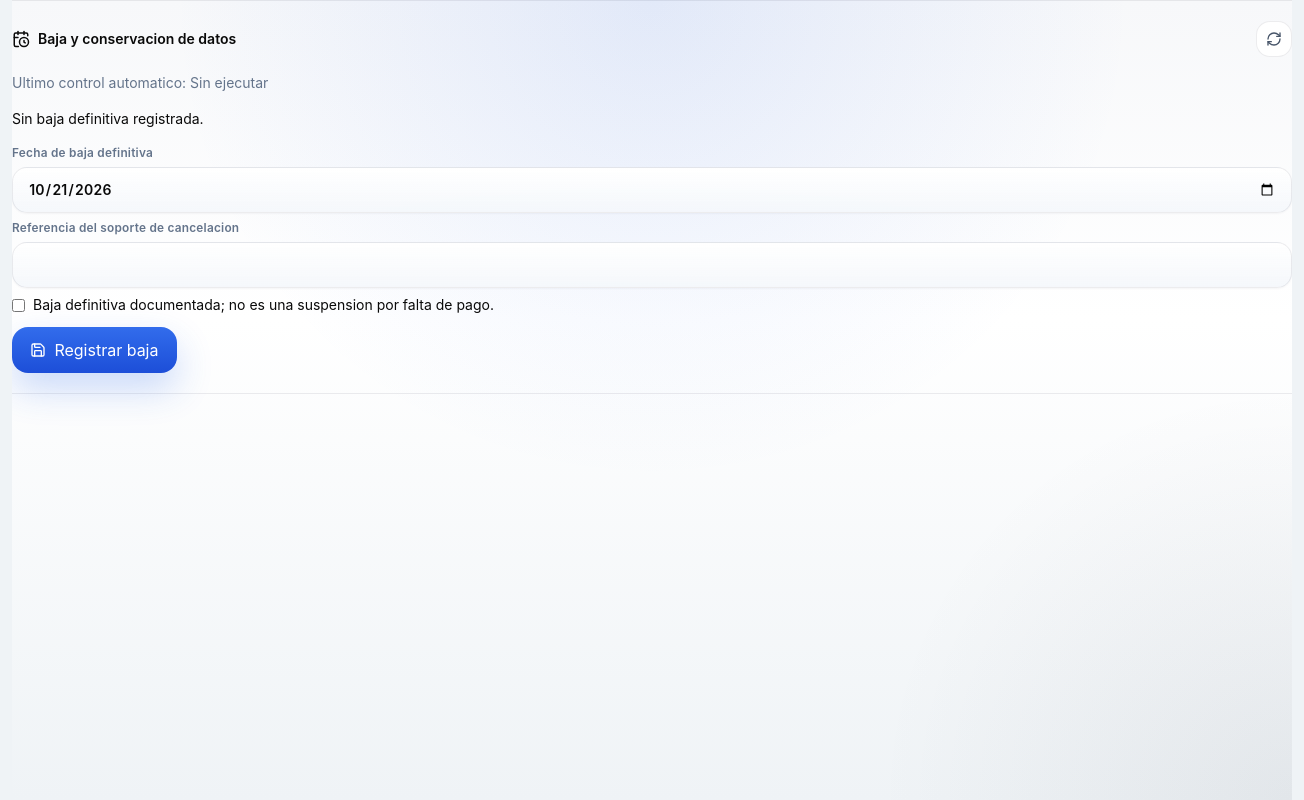
Test case: un fallo conserva el soporte escrito y nunca muestra un exito falso
Expected: the button "Registrar baja" is shown, 12,327 -> 177,373
Type "ticket-demo" into the field labelled "Referencia del soporte de cancelacion". click: [652, 265]
box: 12,242 -> 1292,288
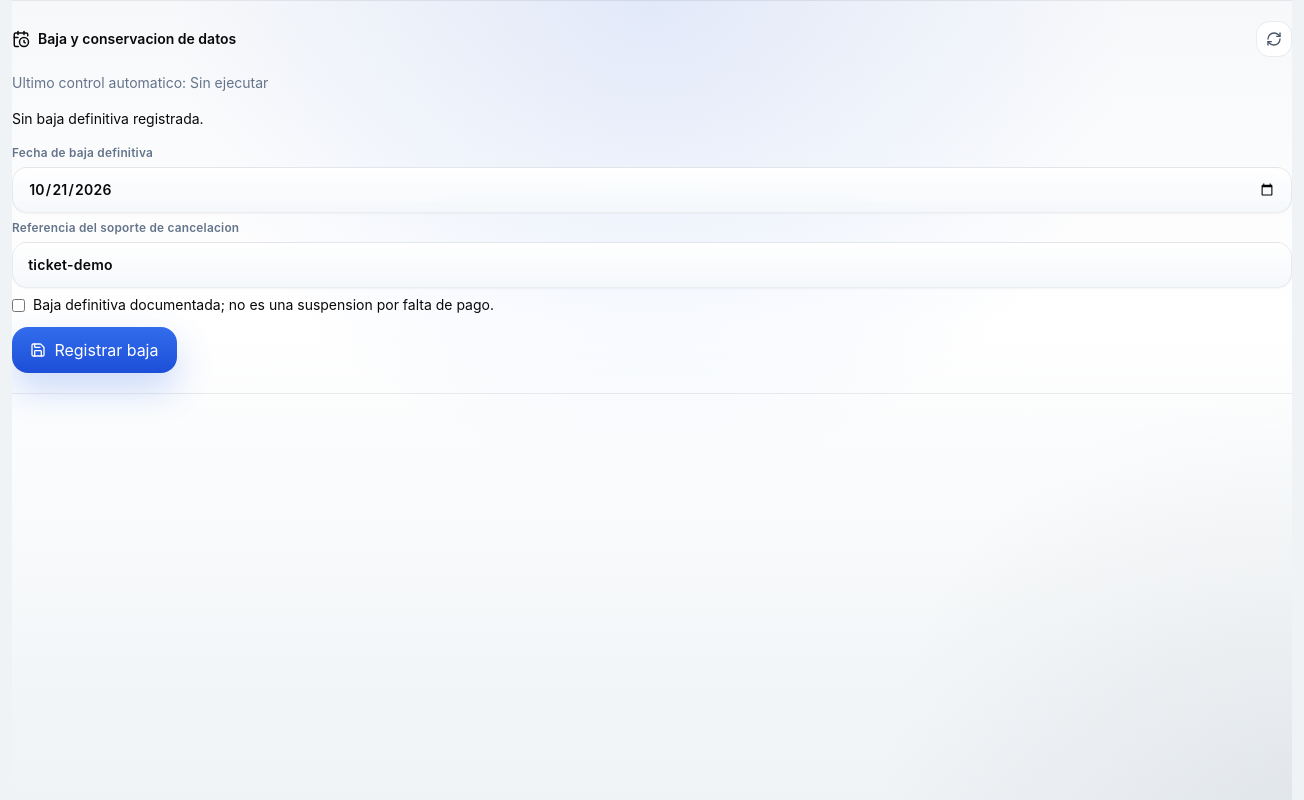
Click the checkbox. click: [18, 305]
box: 12,299 -> 25,312
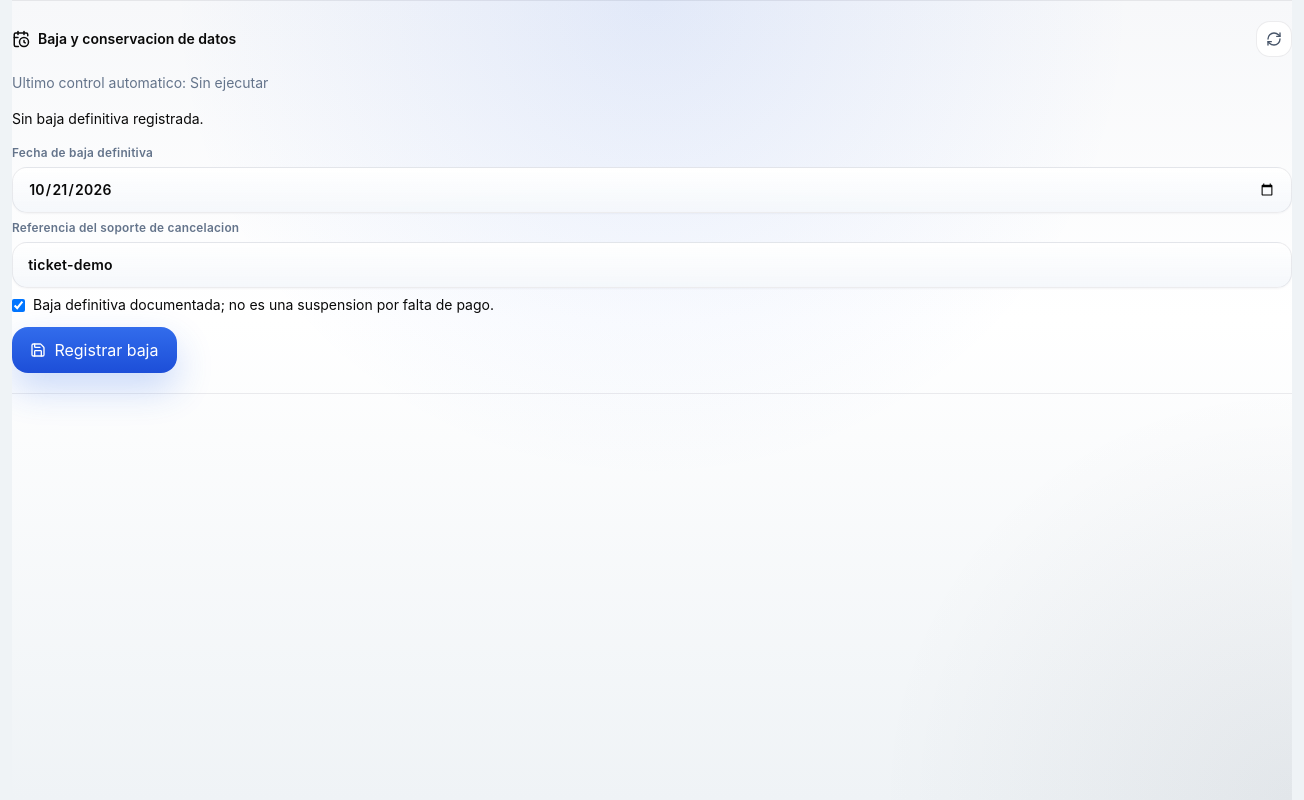
Click the button "Registrar baja". click: [94, 350]
box: 12,327 -> 177,373
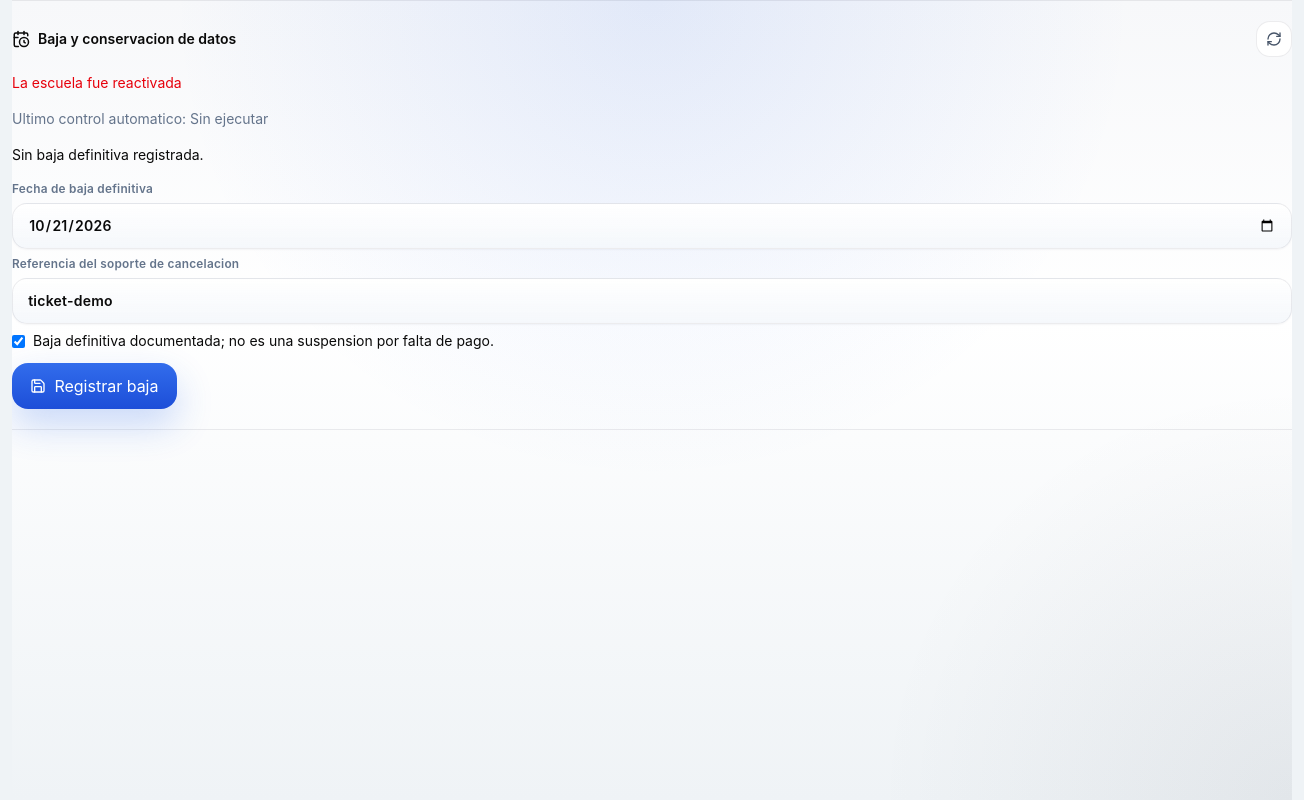
Expected: the text "La escuela fue reactivada" is shown, 12,74 -> 182,91
